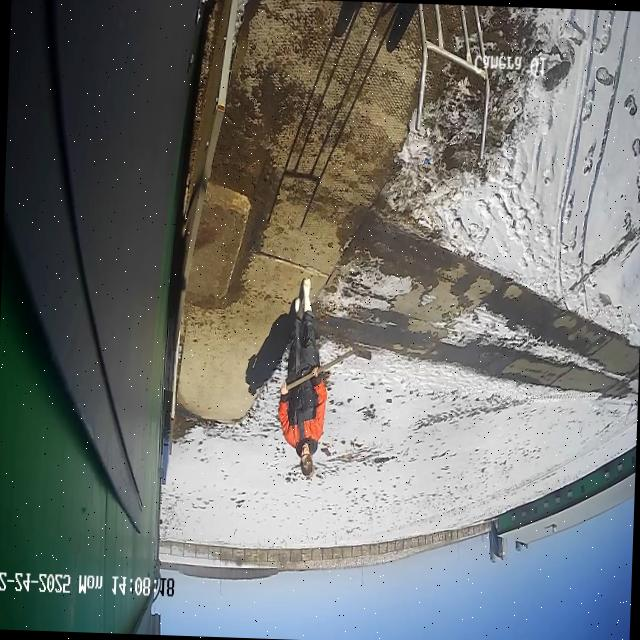Red uniform: (278, 278, 327, 478)
